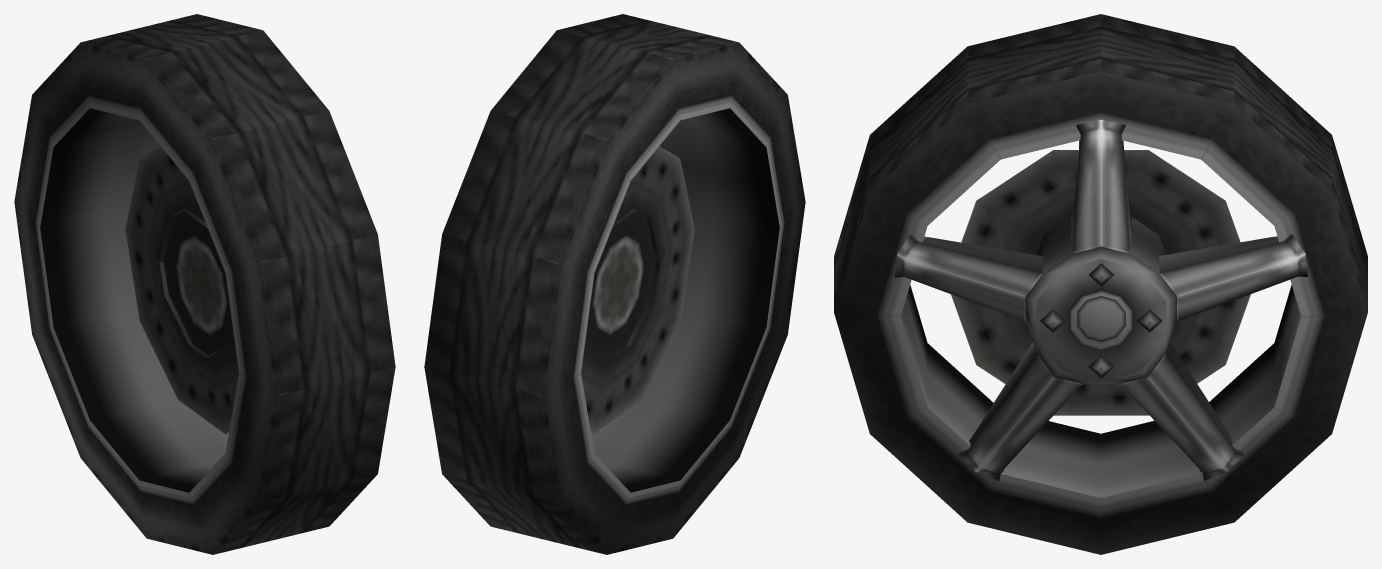
Rendered from wheel_sr1.glb.
3 views of the same model, side by side, from view 1: azimuth 30°, elevation 25°; view 2: azimuth 150°, elevation 25°; view 3: azimuth 270°, elevation 25° (orthographic).
Visible parts, largest first — view 1: wheel_sr1; view 2: wheel_sr1; view 3: wheel_sr1.
Part boxes in pixels (x1,y1,x2,y2): wheel_sr1: (14, 14, 395, 554); wheel_sr1: (424, 14, 805, 554); wheel_sr1: (834, 14, 1367, 554).
Size of the model in its own units: 0.321 by 0.9843 by 0.9843.
Materials: 2 (2 with a texture image).
